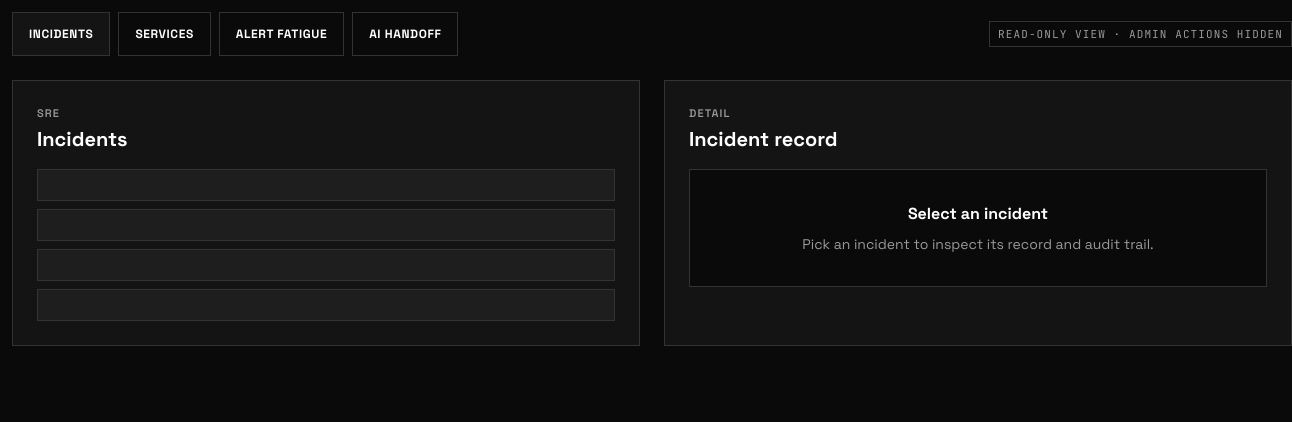
OperationsIntelligence › offers an AI handoff with operational context
Click the button "AI handoff" at (405, 34), box [352,12,458,56]
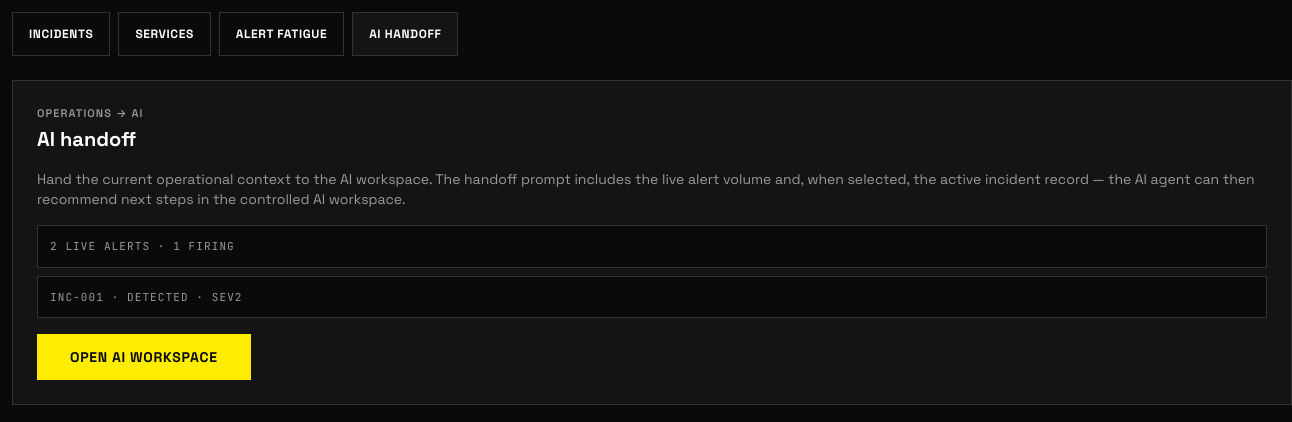
Expected: the list item "2 live alerts · 1 firing" is shown, [37,225,1267,268]
